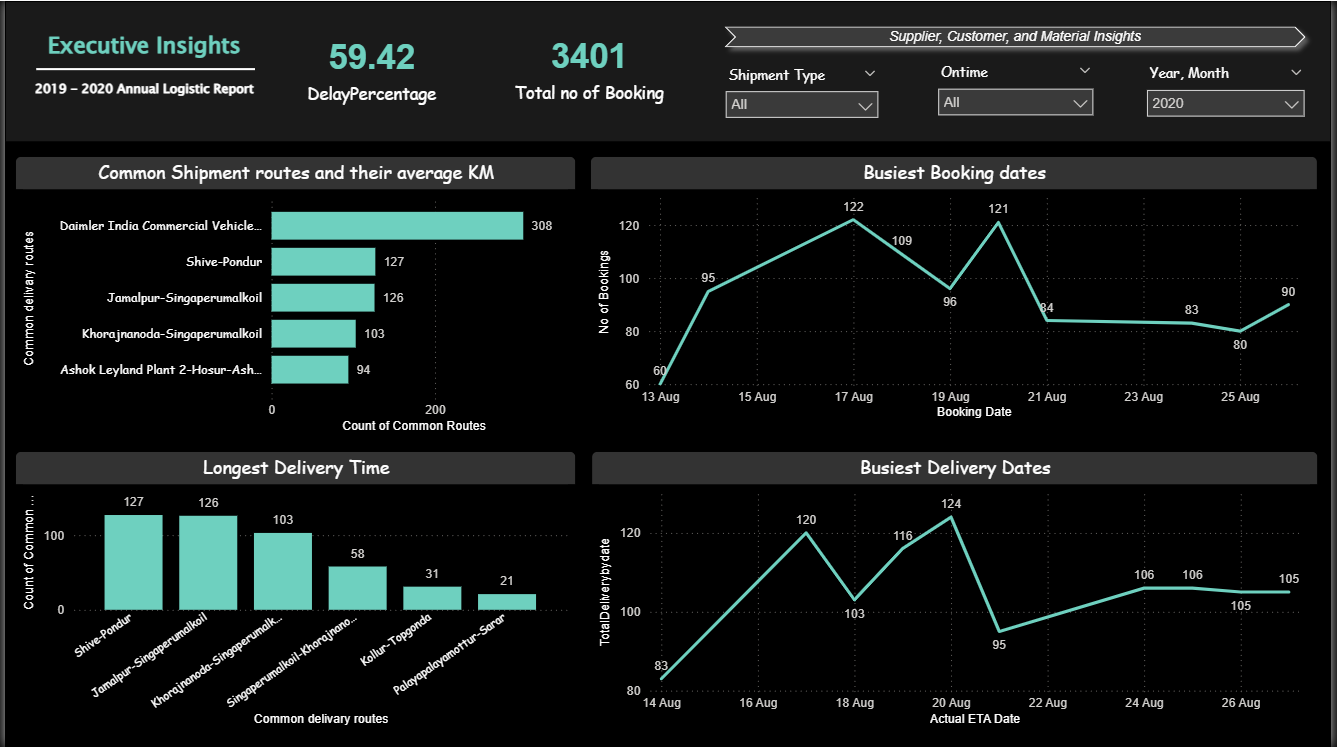

What the dashboard file says about the page in this screenshot:
{"tool":"powerbi","page":{"name":"Shipment Route and Timing Analysis","canvas":[1280,720],"ordinal":0},"visuals":[{"type":"shape","box":[0,0,1280,136.3],"z":0},{"type":"barChart","title":"Common Shipment routes and their average KM","fields":{"Y":["Data.Count of Common Routes"],"Category":["Data.Common delivary routes"]},"box":[9.7,149.6,541.7,275.1],"z":1000},{"type":"columnChart","title":"Longest Delivery Time ","fields":{"Category":["Data.Common delivary routes"],"Y":["Data.Count of Common Routes"]},"box":[10,434.3,541.4,272.9],"z":2000},{"type":"lineChart","title":"Busiest Booking dates","fields":{"Y":["Data.No of Bookings"],"Category":["Data.Booking Date"]},"box":[564.6,149.6,702.1,261.8],"z":3000},{"type":"lineChart","title":"Busiest Delivery Dates","fields":{"Category":["Data.Actual ETA Date"],"Y":["Data.TotalDeliverybydate"]},"box":[565.7,434.3,701.4,272.9],"z":4000},{"type":"slicer","fields":{"Values":["Data.Booking Date.Variation.Date Hierarchy.Year","Data.Booking Date.Variation.Date Hierarchy.Month"]},"box":[1091.8,55.5,172.5,79.6],"z":5000},{"type":"slicer","fields":{"Values":["Data.Ontime"]},"box":[890.4,54.3,170.1,80.8],"z":6000},{"type":"slicer","fields":{"Values":["Data.Shipment Type"]},"box":[685.3,56.7,167.7,79.6],"z":7000},{"type":"card","title":"Total no.of Booking ","fields":{"Values":["Data.Total no of Booking"]},"box":[434.3,4.8,259.4,117],"z":8000},{"type":"card","title":"Delay Percentage","fields":{"Values":["Data.DelayPercentage"]},"box":[243.7,7.2,220.8,113.4],"z":9000},{"type":"textbox","box":[0,71.2,269,32.6],"z":10000},{"type":"pageNavigator","box":[685.3,15.7,579.1,38.6],"z":11000},{"type":"shape","box":[30.2,15.7,211.1,100.1],"z":12000},{"type":"textbox","box":[29,21.7,211.1,47.1],"z":13000}]}

Visuals, with their boxes in screenshot pixels (x1, y1, x2, y2), scaled from the page's 1280x720 canvas onto the 1337x747 screenshot:
shape: bbox(0, 0, 1336, 141)
"Common Shipment routes and their average KM" barChart: bbox(10, 155, 576, 441)
"Longest Delivery Time " columnChart: bbox(10, 451, 576, 734)
"Busiest Booking dates" lineChart: bbox(590, 155, 1323, 427)
"Busiest Delivery Dates" lineChart: bbox(591, 451, 1324, 734)
slicer - Data.Booking Date.Variation.Date Hierarchy.Year x Data.Booking Date.Variation.Date Hierarchy.Month: bbox(1140, 58, 1321, 140)
slicer - Data.Ontime: bbox(930, 56, 1108, 140)
slicer - Data.Shipment Type: bbox(716, 59, 891, 141)
"Total no.of Booking " card: bbox(454, 5, 725, 126)
"Delay Percentage" card: bbox(255, 7, 485, 125)
textbox: bbox(0, 74, 281, 108)
pageNavigator: bbox(716, 16, 1321, 56)
shape: bbox(32, 16, 252, 120)
textbox: bbox(30, 23, 251, 71)
